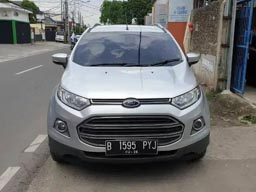plat: (105, 141, 156, 150)
